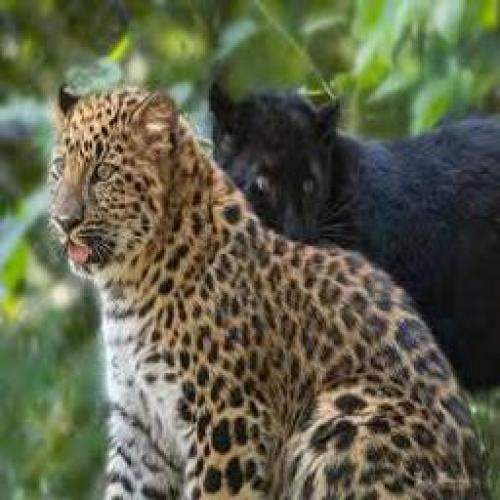panther-endangered: (197, 78, 500, 387)
